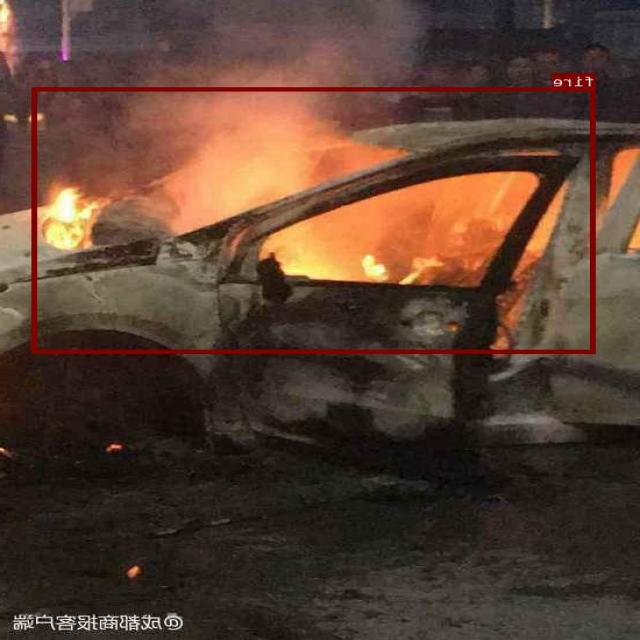fire: (34, 86, 596, 353)
